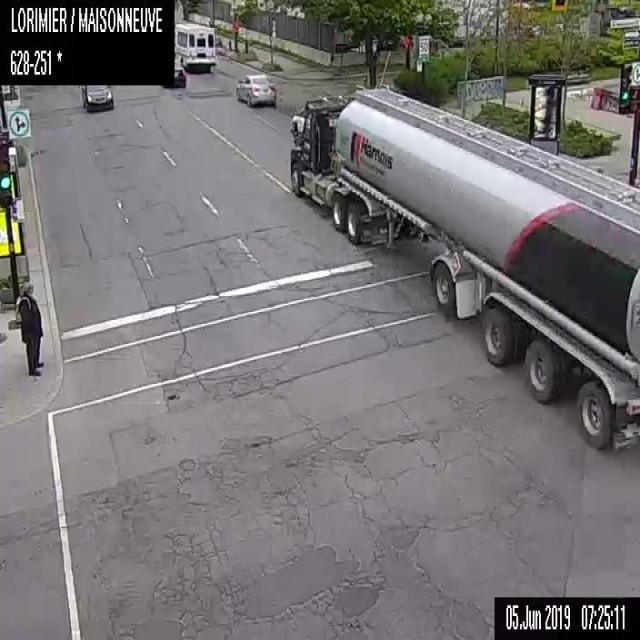bus: (172, 22, 215, 72)
pedestrian: (12, 279, 44, 377)
vehicle: (288, 88, 639, 450), (236, 72, 276, 106), (78, 83, 116, 112), (160, 59, 185, 88)
